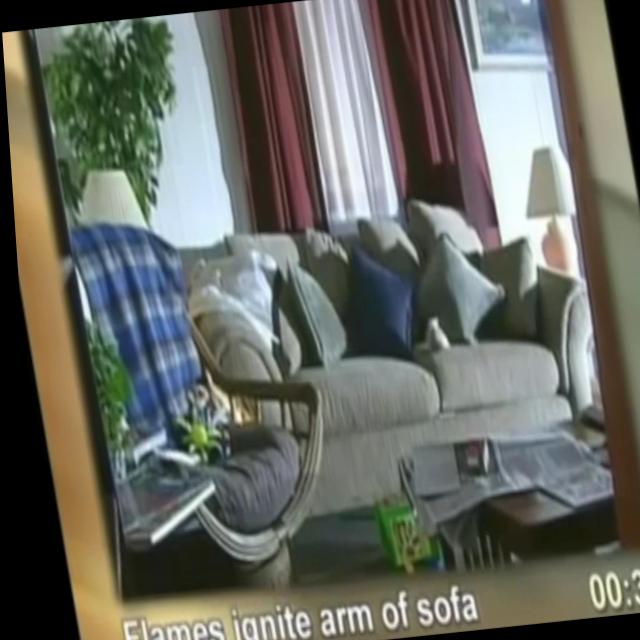fire: (194, 351, 238, 424)
